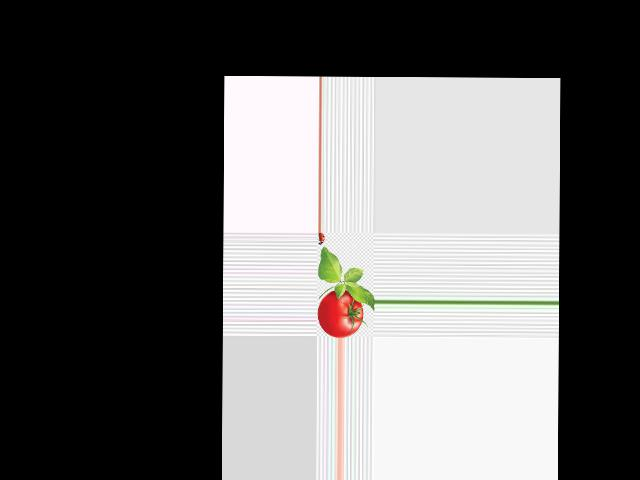tomato: (317, 290, 363, 337)
